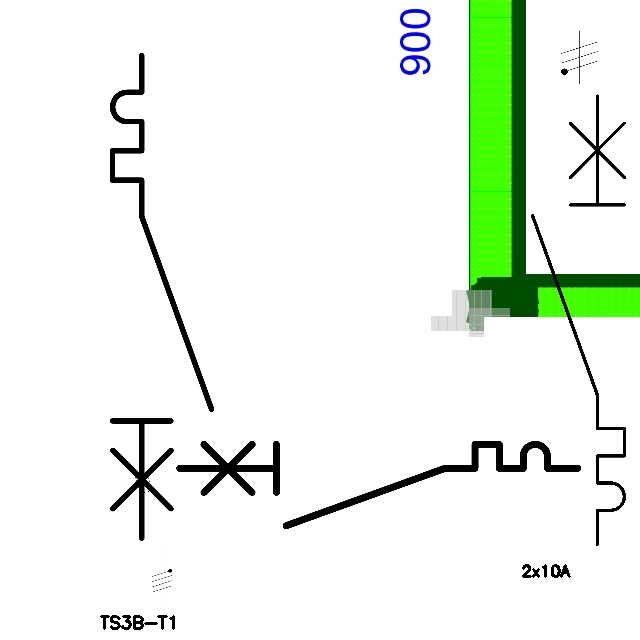interruptor_termomagnetico: (100, 43, 224, 550), (521, 84, 636, 555), (169, 434, 587, 536)
